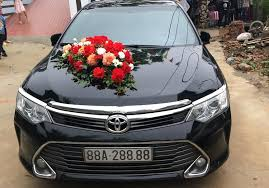number-plate: (84, 148, 153, 162)
